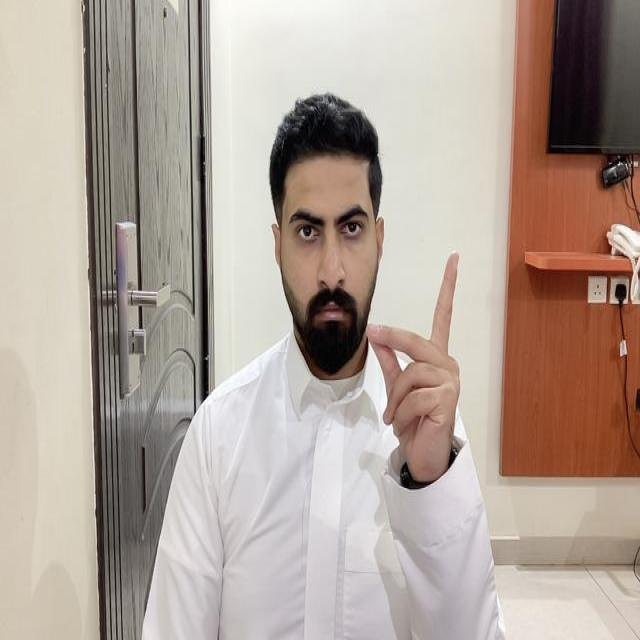emergency: (365, 249, 461, 483)
